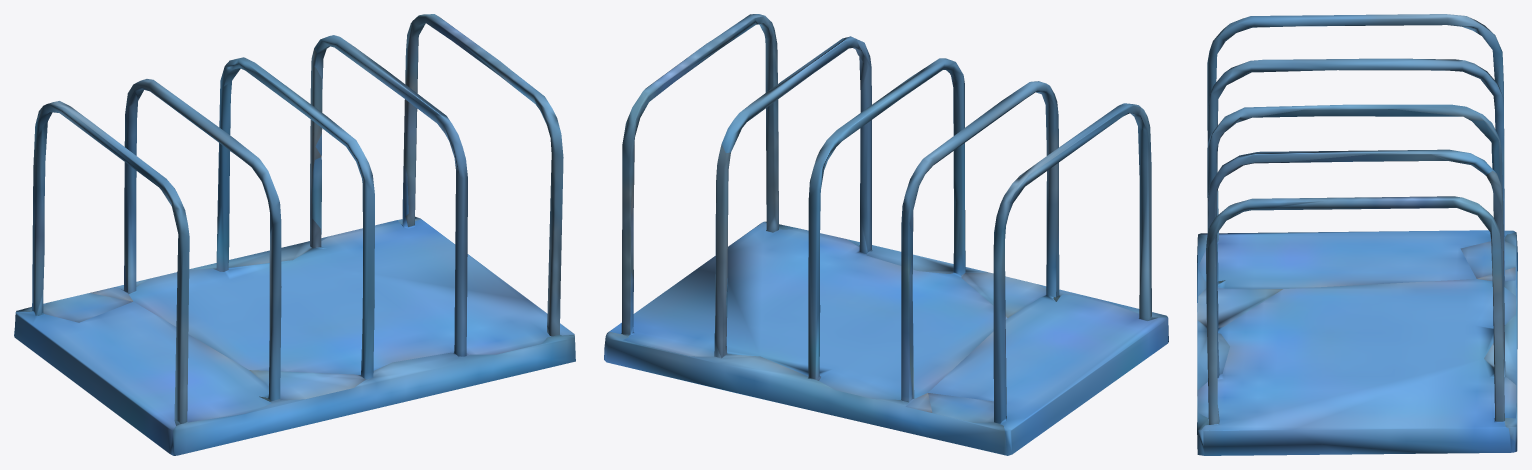
Rendered from Poppin_File_Sorter_Blue-medium.glb.
3 renders of one model, left to right at view 1: azimuth 30°, elevation 25°; view 2: azimuth 150°, elevation 25°; view 3: azimuth 270°, elevation 25°, orthographic.
Parts seen in each view (by area): view 1: Poppin_File_Sorter_Blue; view 2: Poppin_File_Sorter_Blue; view 3: Poppin_File_Sorter_Blue.
Part boxes in pixels (box(x1,y1,x2,y2)): Poppin_File_Sorter_Blue: box(14, 14, 575, 455); Poppin_File_Sorter_Blue: box(604, 14, 1168, 455); Poppin_File_Sorter_Blue: box(1197, 14, 1517, 455).
Size of the model in its own units: 0.2503 by 0.1532 by 0.1731.
1 material, 1 textured.
